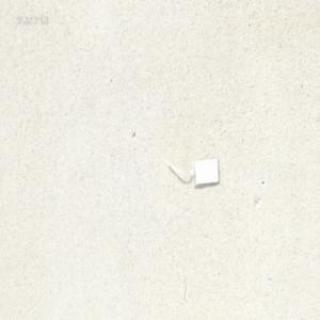LuggageTagtrack_idkeyframe: (165, 155, 219, 185)
